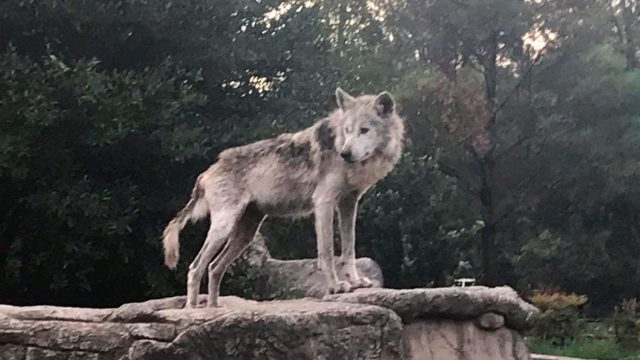Lobo: (135, 88, 450, 301)
